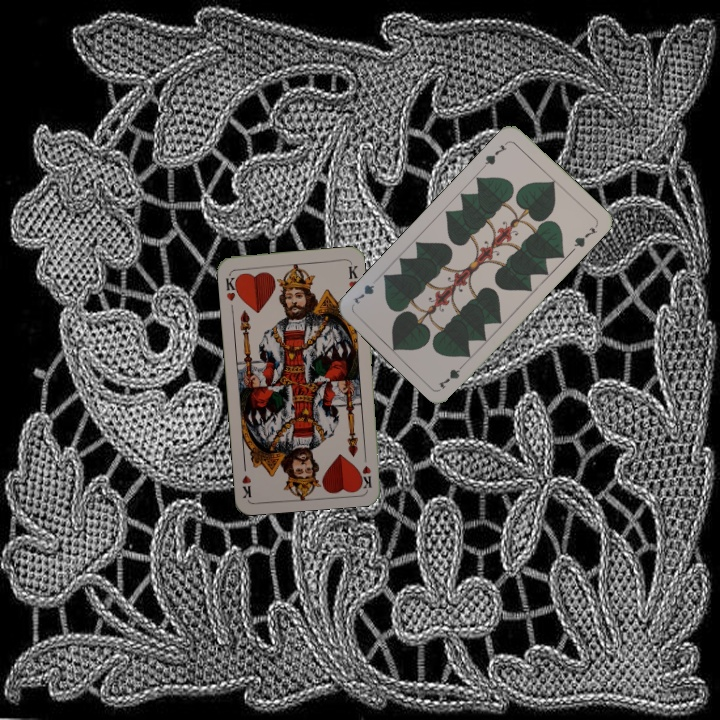G7: (434, 358, 469, 391), (479, 137, 511, 170)
HK: (357, 449, 375, 490), (222, 271, 242, 303)
